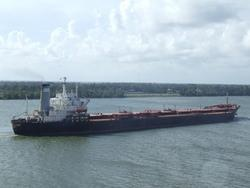Cargoship: (8, 75, 242, 138)
